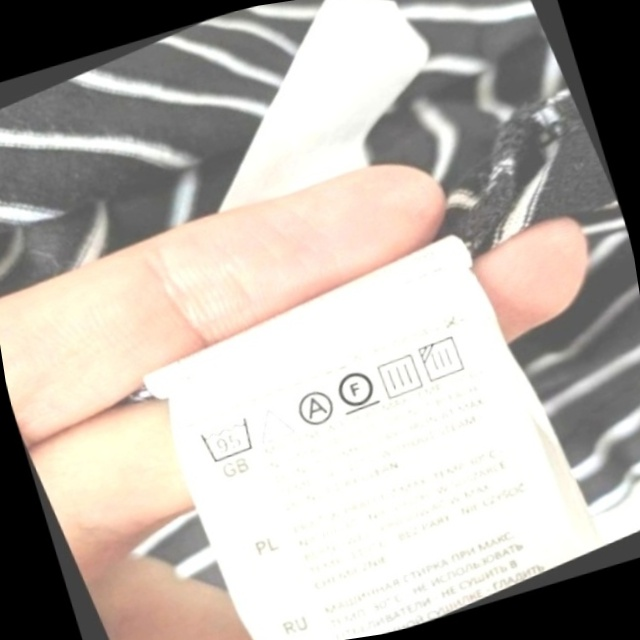95C: (192, 408, 265, 471)
bleach: (247, 395, 299, 452)
drip_dry: (369, 345, 431, 406)
drip_dry_in_shade: (412, 327, 476, 390)
dry_clean: (287, 381, 342, 435)
dry_clean_petrol_only: (327, 358, 386, 421)
